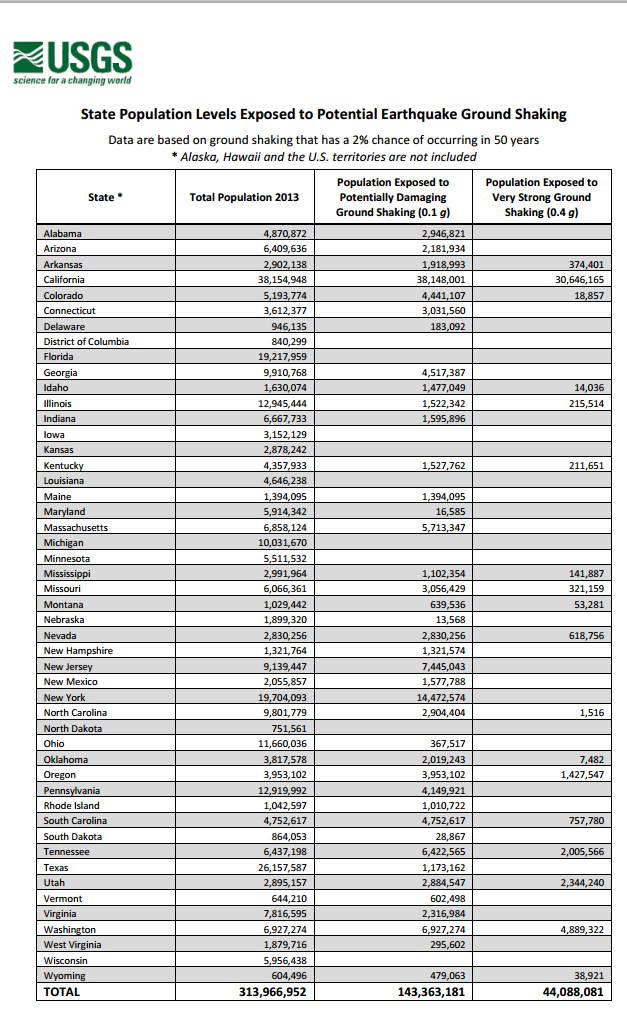fracking table: (37, 165, 616, 1001)
